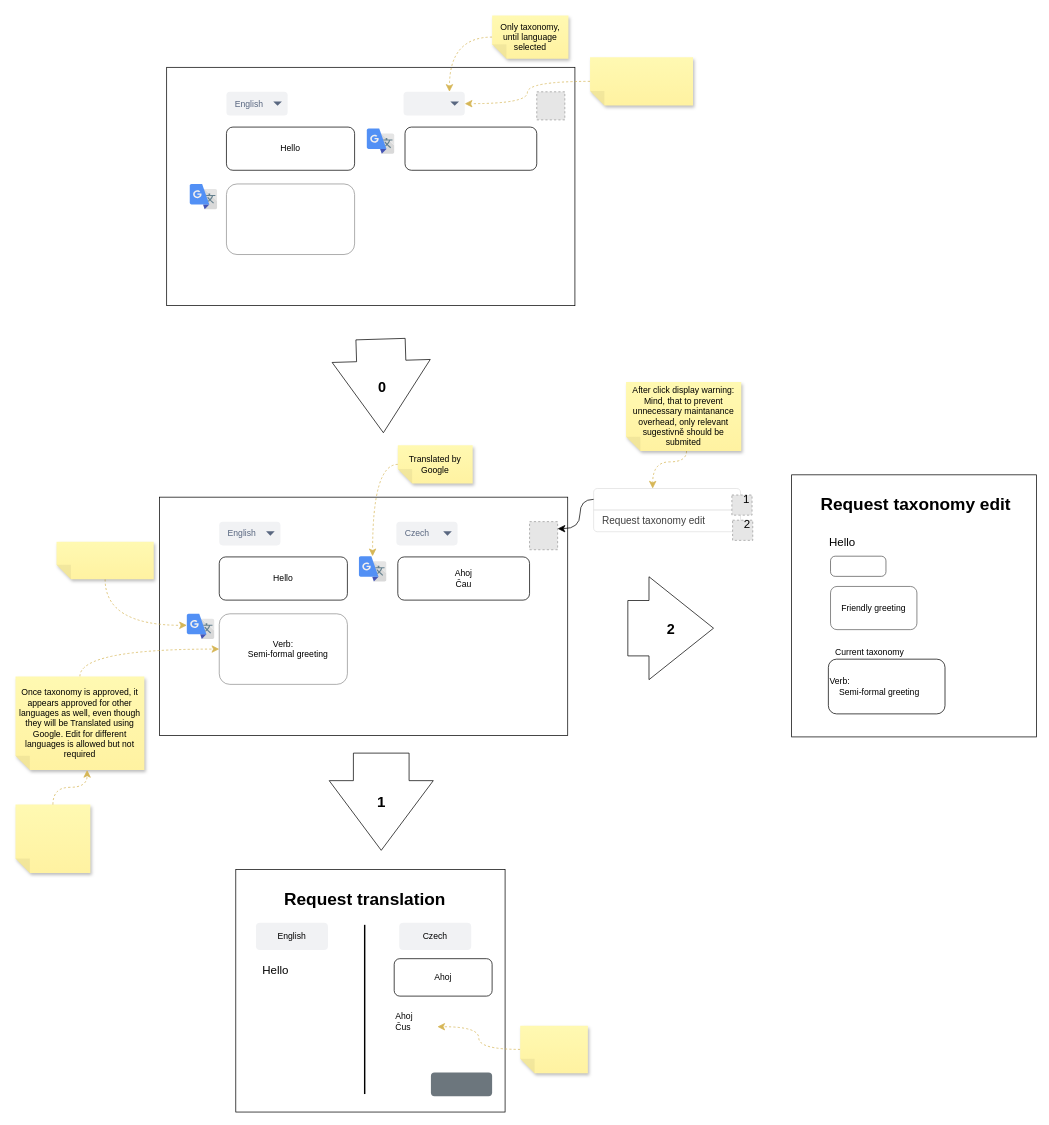
The diagram is 1049 pixels wide and 1125 high, and some of its shapes have lost their labels. Grey dashed boxes stand in for pictures. The centre of each missing label's shape, as x and y in pixels:
Click to fill in suggestion: pixel 554 1050
Implies language preference configuration: pixel 53 839
Languages with approved translation on top: pixel 642 82
Request translation approval: pixel 667 499
Submit: pixel 461 1084
Suggested by google: pixel 105 561
Verb: pixel 858 565
Verb: Semi-formal greating: pixel 290 219
